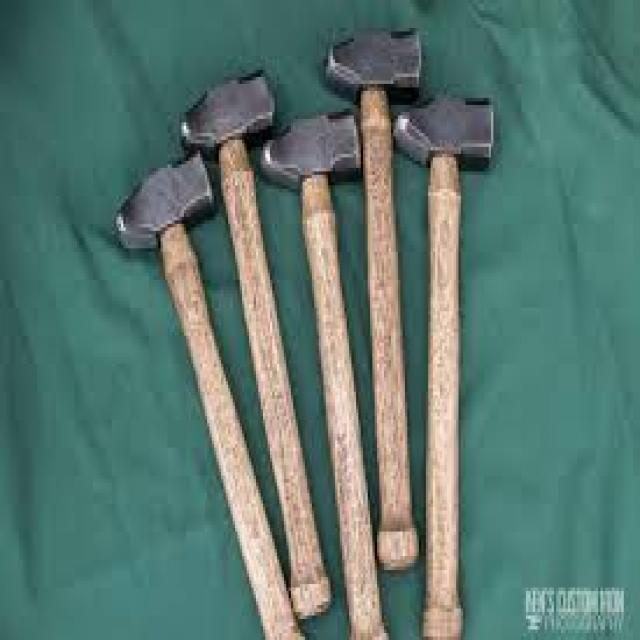hammer: (110, 150, 308, 640), (174, 63, 336, 640), (258, 98, 403, 640), (391, 77, 503, 640), (318, 14, 428, 584)
